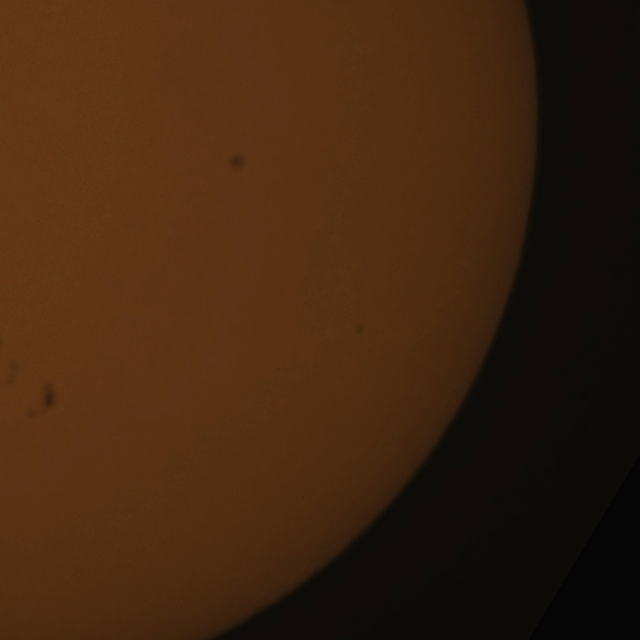sunspot: (228, 152, 244, 174)
